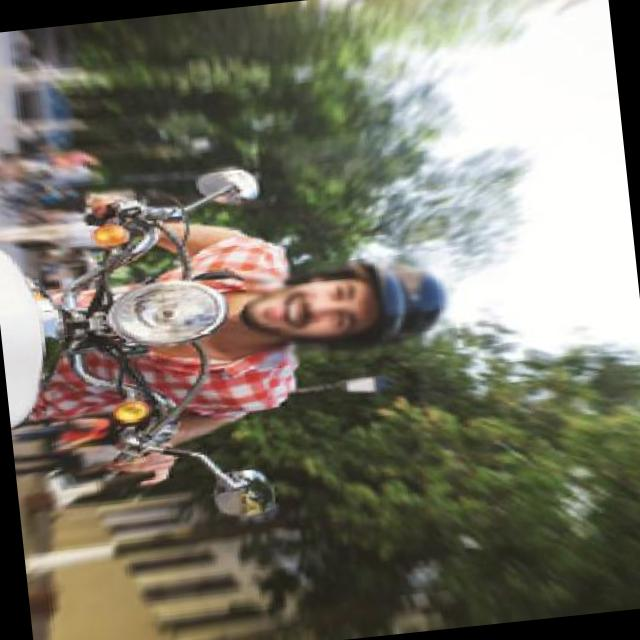With Helmet: (240, 250, 458, 370)
